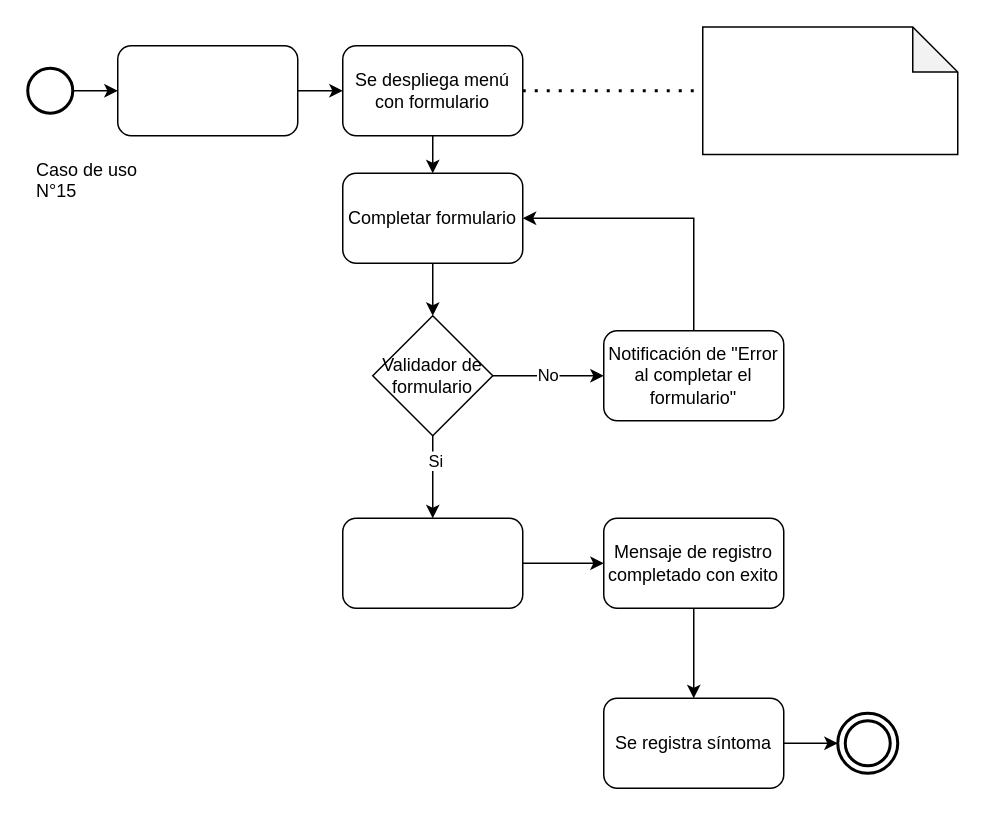
This 984x815 diagram has some shape labels left out. Here are the shapes that lost their labels. From the top down, the centre of each, then its label:
[207,90]: Presionar el botón "Quiero registrar mis sintomas"
[829,90]: Campos desplegados: - Tipo de síntoma - Descripción
[432,562]: Confirmar registro
